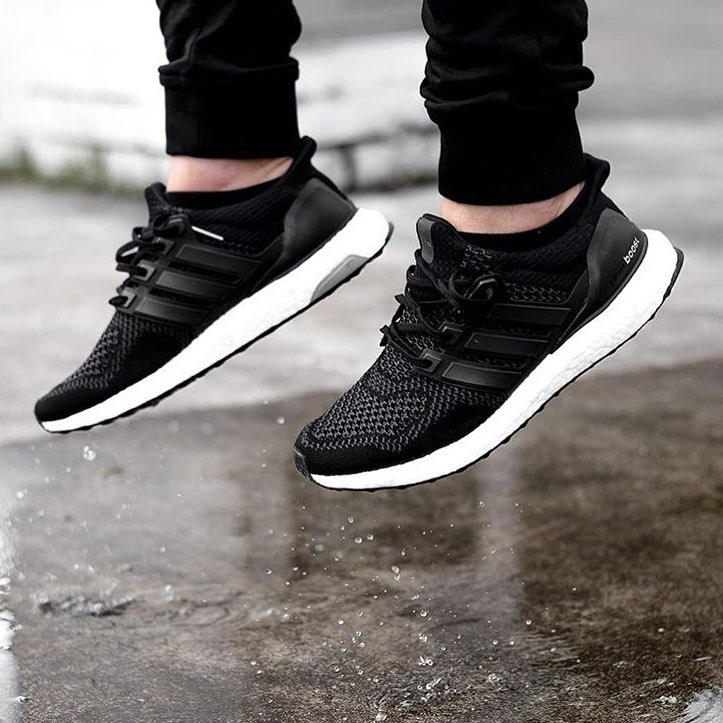sneaker: (272, 141, 709, 512), (22, 107, 407, 465)
